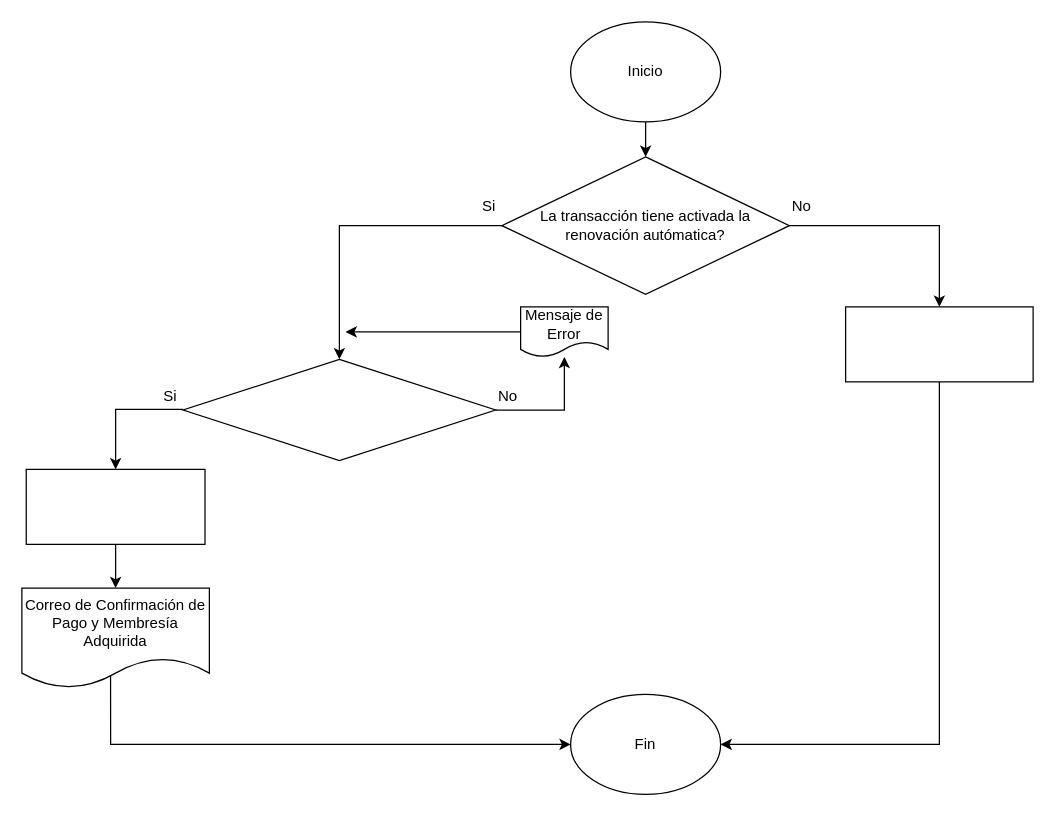
This 1055x816 diagram has some shape labels left out. The box of each missing label's shape, as (x1, y1, x2, y2) in pixels:
Se crea una nueva transacción con los datos de la anterior transacción: (25, 468, 205, 544)
Se inactiva la transacción una vez terminado el periodo actual: (844, 306, 1033, 382)
Se proceso el pago por Paypal: (182, 358, 496, 461)
